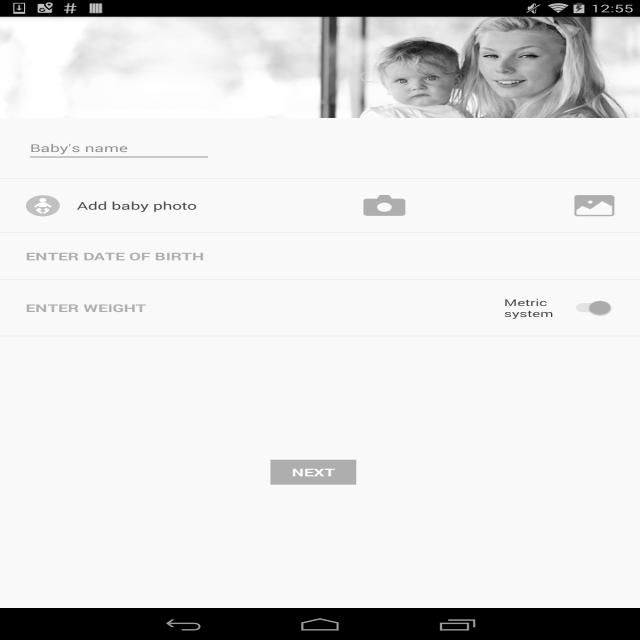Button: (262, 454, 367, 489)
EditText: (18, 137, 225, 163)
ImageView: (7, 20, 612, 116), (350, 187, 424, 222), (565, 187, 620, 218), (21, 190, 70, 215)
Switch: (570, 298, 619, 317)
TextView: (18, 244, 215, 262), (20, 294, 147, 316), (493, 291, 557, 325)
